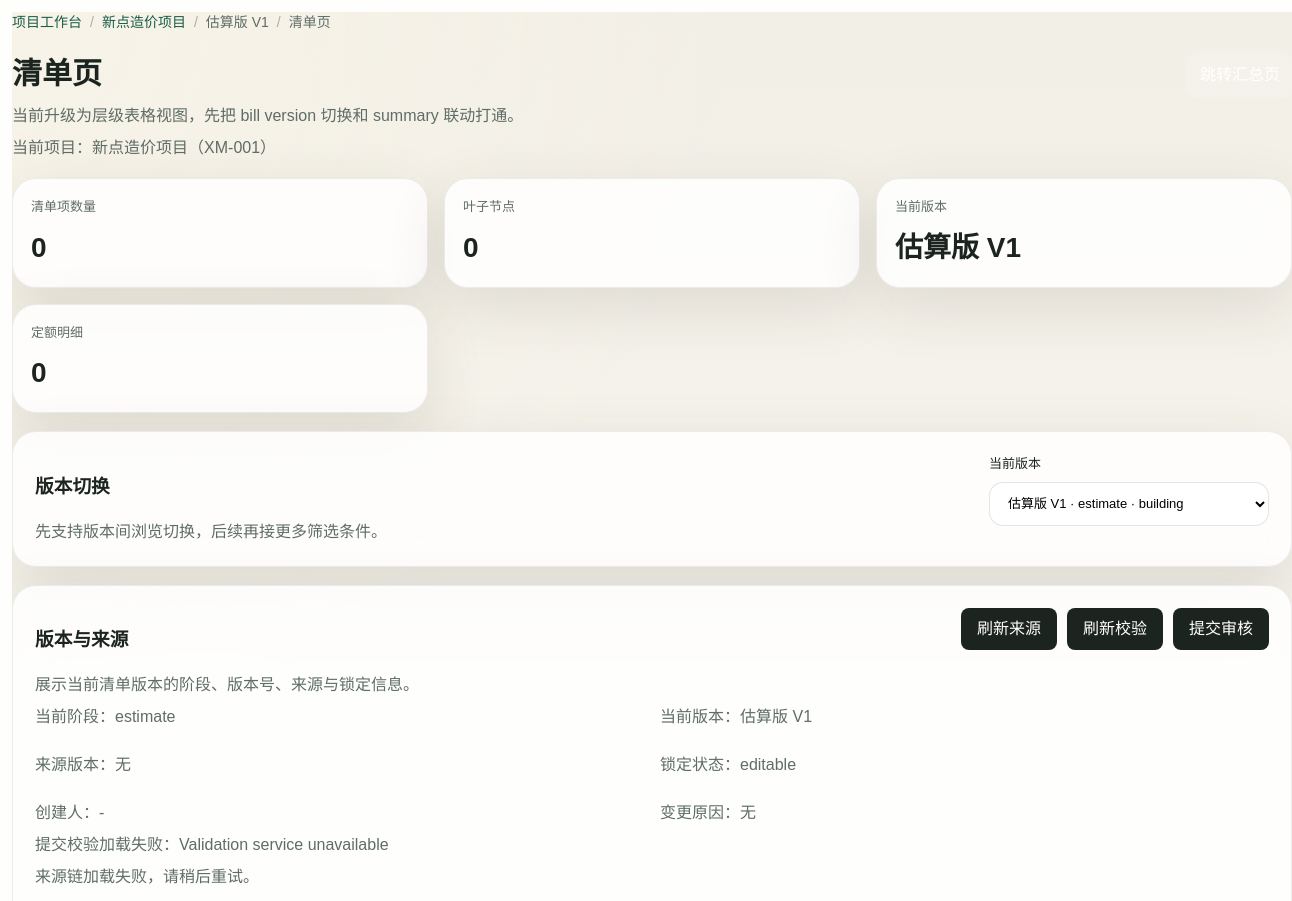
Test: BillItemsPage › refreshes bill version validation summary after load failure
The width and height of the screenshot is (1292, 901).
Expected: the text "提交校验加载失败：Validation service unavailable" is shown, [35,836,389,853]
What coordinates should you click on to do the following:
click the button "刷新校验"
I would click on:
 (1115, 628)
Its box is [1067,608,1163,650].
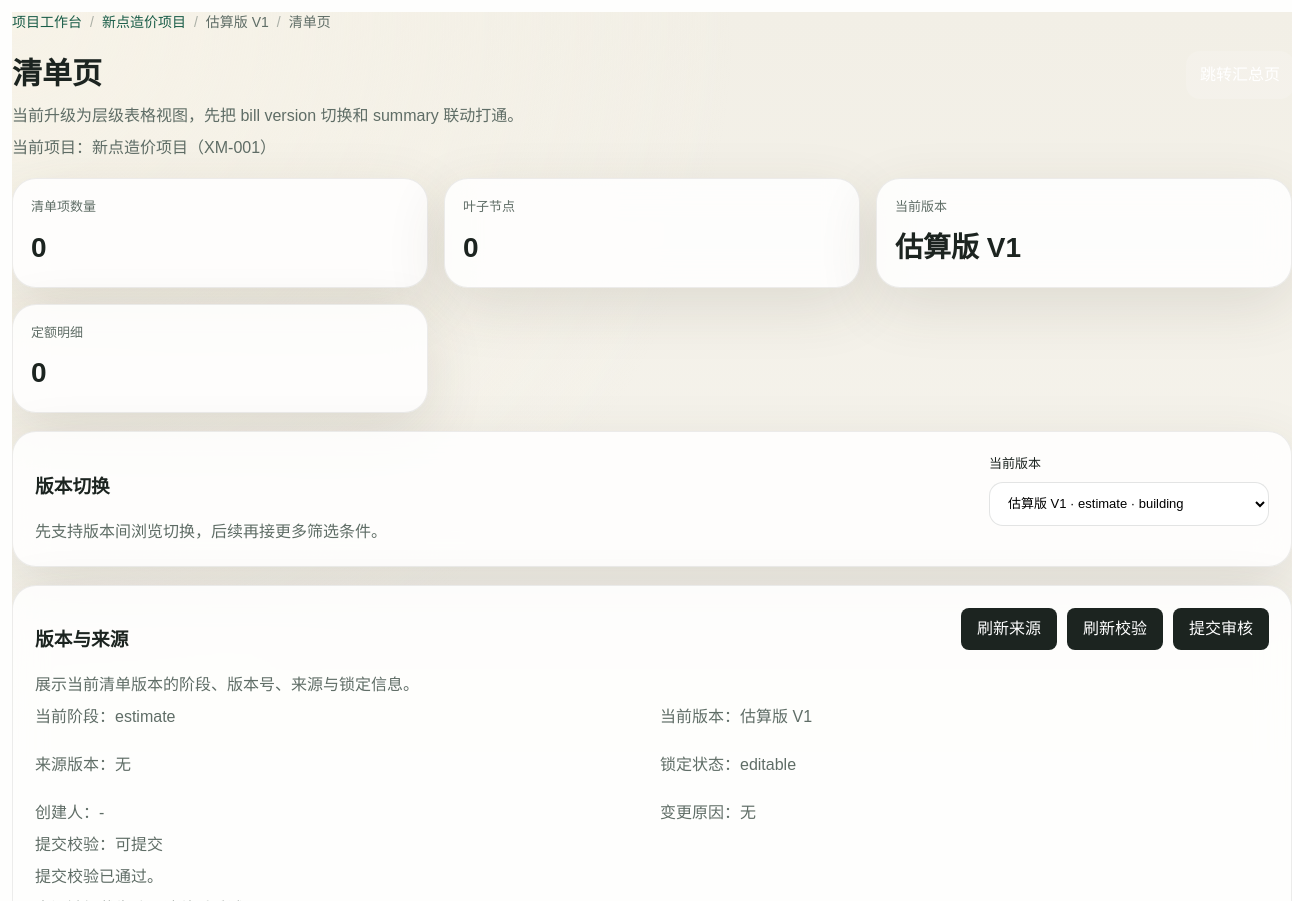
Expected: the text "提交校验：可提交" is shown, [35,836,163,853]
Expected: the text "提交校验已通过。" is shown, [35,868,163,885]
